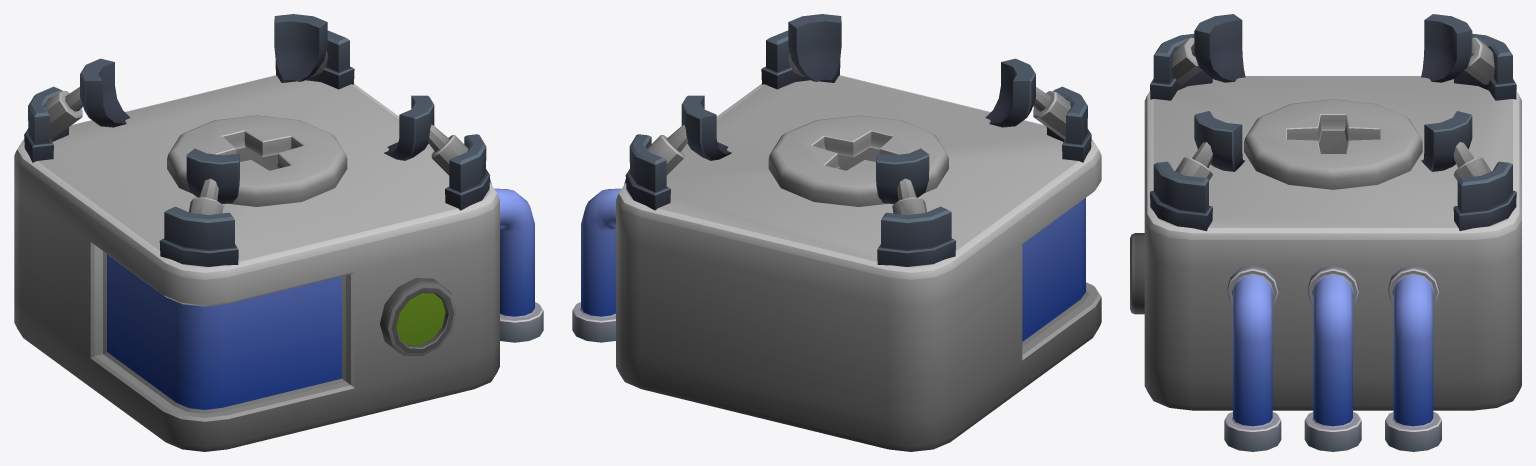
File: sp_food_grower.fbx
The picture shows the model from 3 angles, left to right: view 1: azimuth 30°, elevation 25°; view 2: azimuth 150°, elevation 25°; view 3: azimuth 270°, elevation 25°; orthographic projection.
Parts seen in each view (by area): view 1: Food_grower; view 2: Food_grower; view 3: Food_grower.
Boxes of the visible parts, x1,y1,x2,y2 form: Food_grower: (14,14,543,451); Food_grower: (572,14,1101,451); Food_grower: (1130,14,1521,451).
Size of the model in its own units: 82.17 by 51.21 by 69.21.
